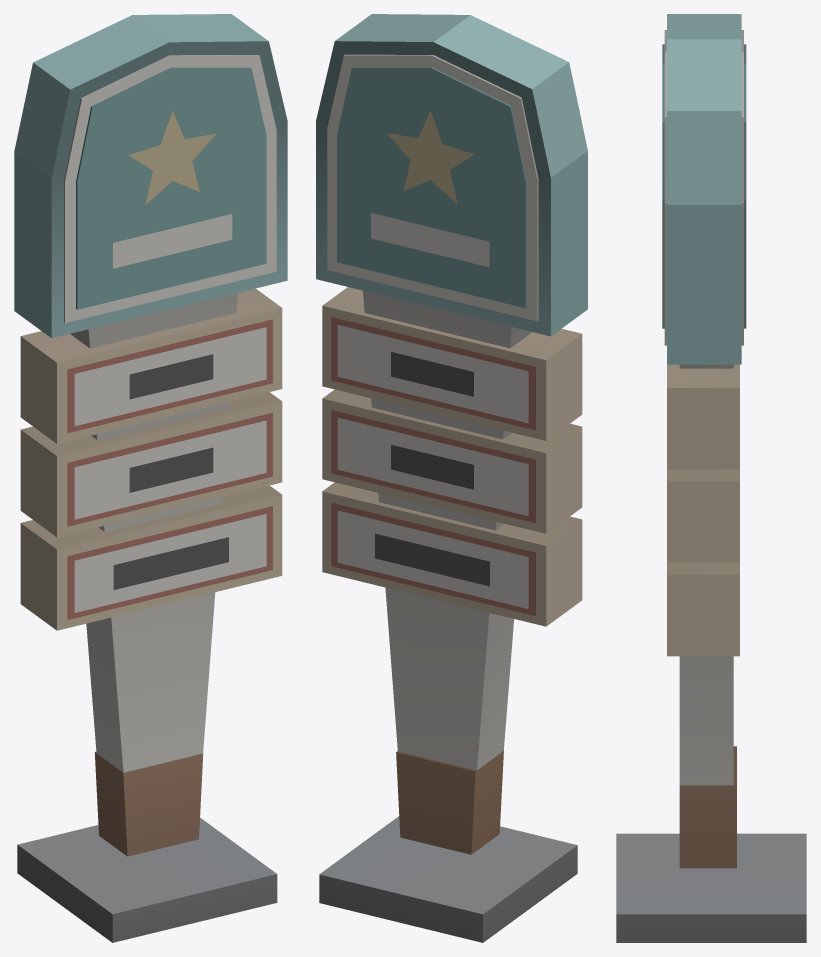
The model's file is pylon.lod2.glb.
The picture shows the model from 3 angles, left to right: view 1: azimuth 30°, elevation 25°; view 2: azimuth 150°, elevation 25°; view 3: azimuth 270°, elevation 25°; orthographic projection.
Size of the model in its own units: 1.72 by 6 by 1.2.
